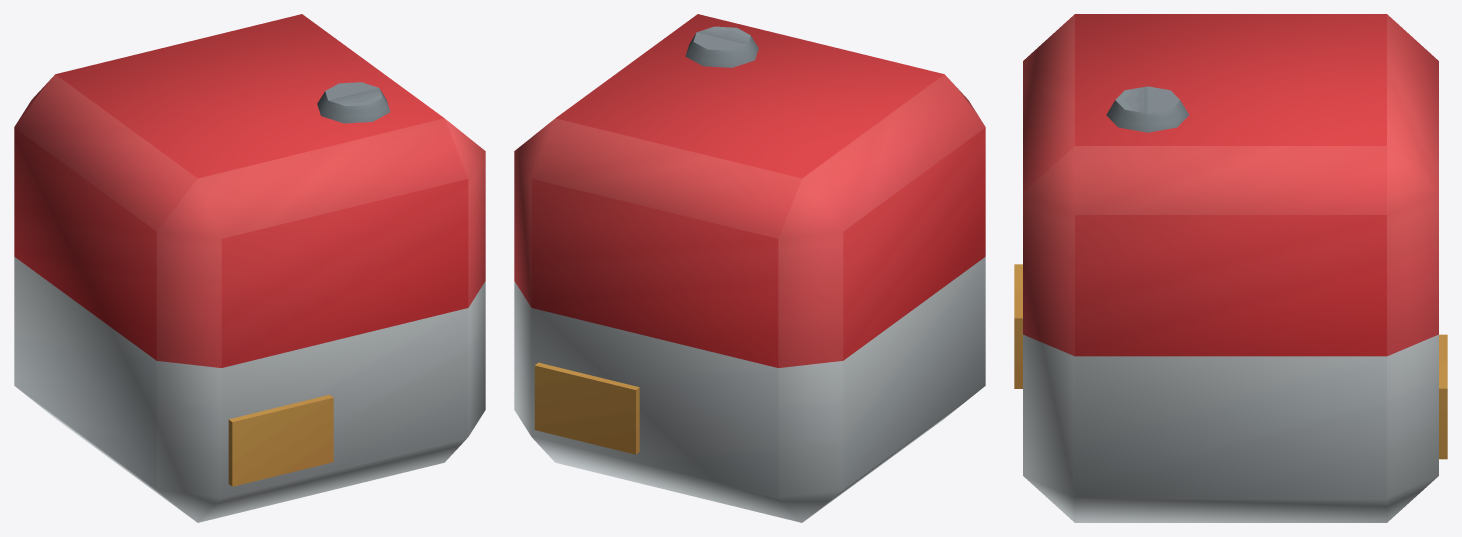
Rendered from cargo_A.glb.
The picture shows the model from 3 angles, left to right: view 1: azimuth 30°, elevation 25°; view 2: azimuth 150°, elevation 25°; view 3: azimuth 270°, elevation 25°; orthographic projection. The views are drawn at different scales.
Parts seen in each view (by area): view 1: cargo_A; view 2: cargo_A; view 3: cargo_A.
Part boxes in pixels (x1,y1,x2,y2): cargo_A: [14, 14, 485, 522]; cargo_A: [514, 14, 985, 522]; cargo_A: [1014, 14, 1447, 522].
Size of the model in its own units: 0.5 by 0.52 by 0.5205.
1 material, 1 textured.
